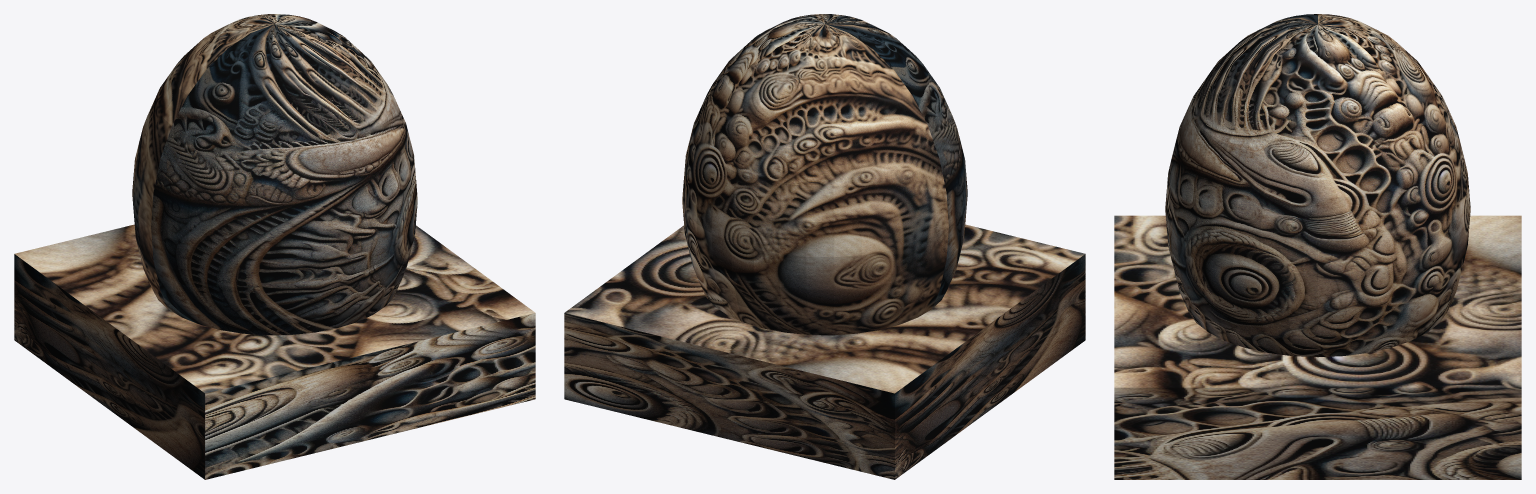
The model's file is artifact5.gltf.
The picture shows the model from 3 angles, left to right: view 1: azimuth 30°, elevation 25°; view 2: azimuth 150°, elevation 25°; view 3: azimuth 270°, elevation 25°; orthographic projection. The views are drawn at different scales.
Parts seen in each view (by area): view 1: Sphere, Cube; view 2: Sphere, Cube; view 3: Sphere, Cube.
Part boxes in pixels (bbox=[...]): Sphere: bbox=[132, 14, 417, 335]; Cube: bbox=[14, 224, 535, 479]; Sphere: bbox=[682, 14, 967, 335]; Cube: bbox=[564, 224, 1085, 479]; Sphere: bbox=[1165, 14, 1470, 357]; Cube: bbox=[1114, 215, 1521, 479].
Bounding box in the file's own units: 2 × 2 × 2.
1 material, 1 textured.
